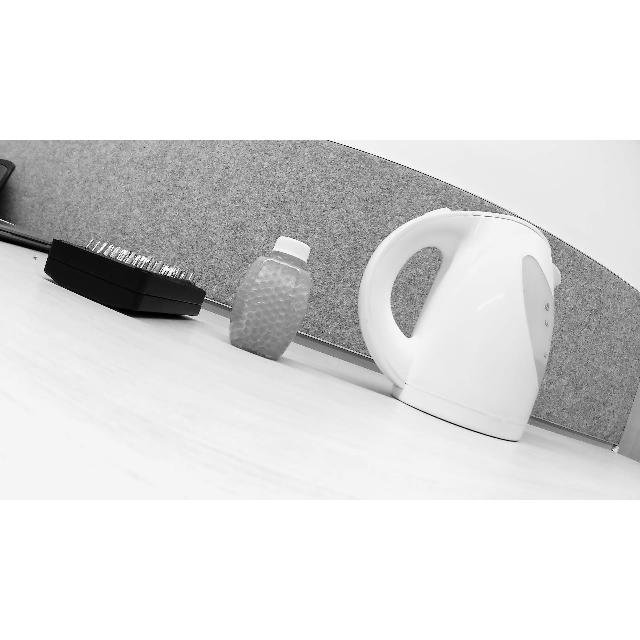targets: (362, 210, 588, 446), (44, 230, 220, 320), (224, 234, 334, 350)
